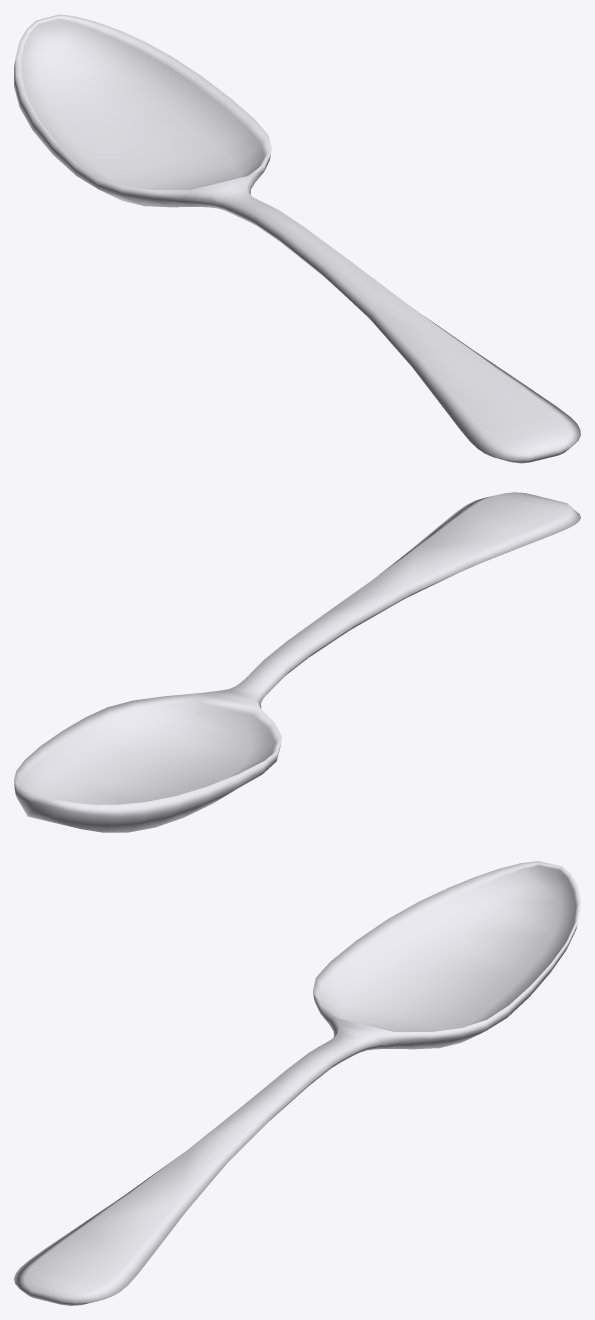
File: Dining_TeaSpoon.fbx
3 views of the same model, one above another, from view 1: azimuth 30°, elevation 25°; view 2: azimuth 150°, elevation 25°; view 3: azimuth 330°, elevation 25° (orthographic).
Visible parts, largest first — view 1: TeaSpoon_LOD_0; view 2: TeaSpoon_LOD_0; view 3: TeaSpoon_LOD_0.
Boxes of the visible parts, x1=… form: TeaSpoon_LOD_0: x1=14, y1=14, x2=580, y2=463; TeaSpoon_LOD_0: x1=14, y1=492, x2=580, y2=832; TeaSpoon_LOD_0: x1=14, y1=861, x2=580, y2=1305.
Size of what is drawn, in the model's own units: 2.39 by 0.9498 by 11.58.
